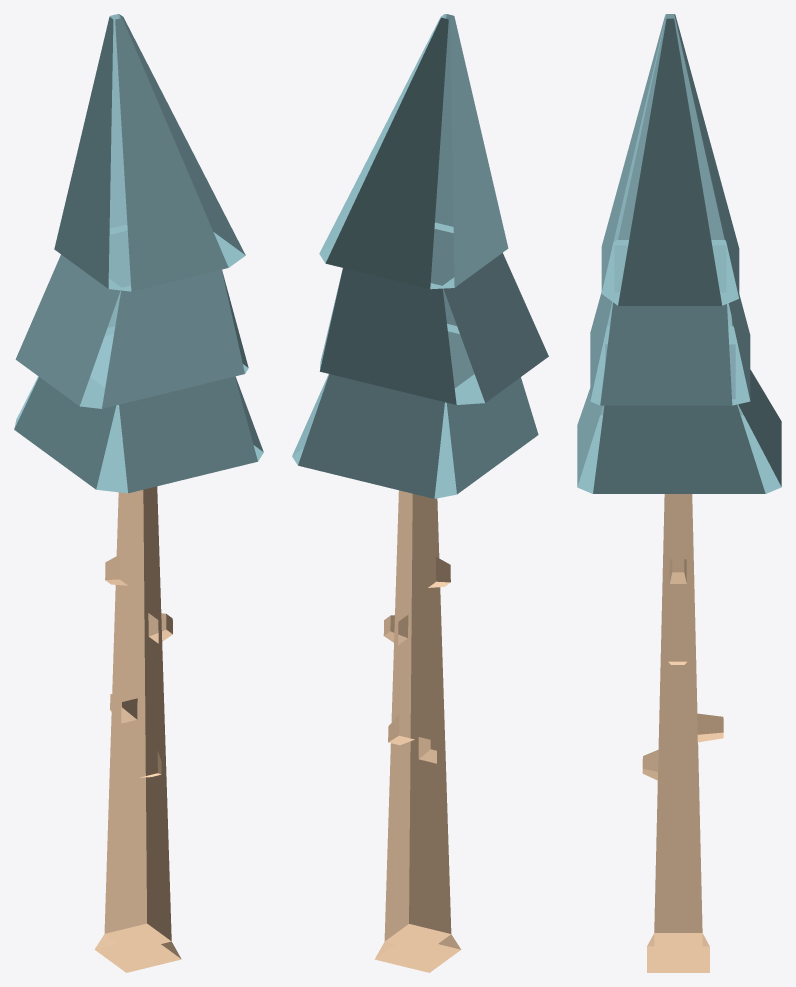
File: tree_pine_tallSquare_detailed.glb
3 renders of one model, left to right at view 1: azimuth 30°, elevation 25°; view 2: azimuth 150°, elevation 25°; view 3: azimuth 270°, elevation 25°, orthographic.
Parts seen in each view (by area): view 1: tree_pine_tallSquare_detailed; view 2: tree_pine_tallSquare_detailed; view 3: tree_pine_tallSquare_detailed.
Part boxes in pixels (<box>): tree_pine_tallSquare_detailed: <box>14,14,263,972</box>; tree_pine_tallSquare_detailed: <box>292,14,548,972</box>; tree_pine_tallSquare_detailed: <box>577,14,781,972</box>.
Bounding box in the file's own units: 3.86 × 19.7 × 3.92.
